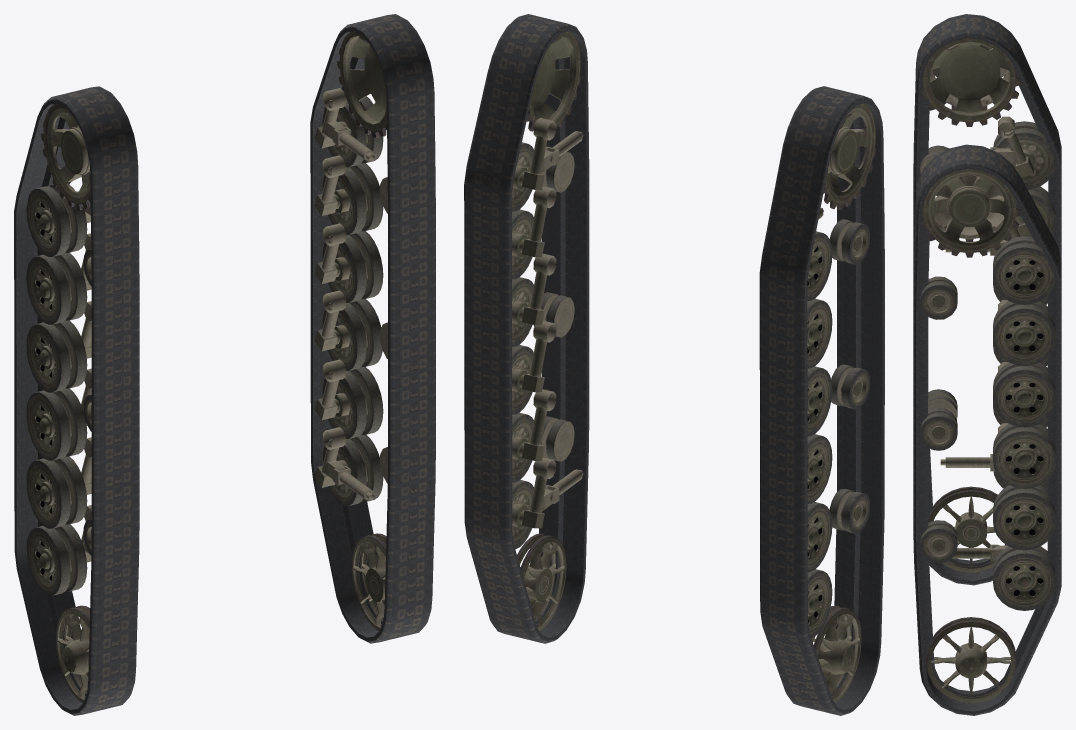
File: Chassis.glb
3 renders of one model, left to right at view 1: azimuth 30°, elevation 25°; view 2: azimuth 150°, elevation 25°; view 3: azimuth 270°, elevation 25°, orthographic. The views are drawn at different scales.
Parts seen in each view (by area): view 1: set_1_group_0, set_0_group_0, set_2_group_0, set_3_group_0; view 2: set_1_group_0, set_0_group_0, set_3_group_0, set_2_group_0; view 3: set_3_group_0, set_0_group_0, set_2_group_0, set_1_group_0.
Part boxes in pixels (bbox=[...]): set_1_group_0: bbox=[14, 86, 139, 715]; set_0_group_0: bbox=[310, 14, 435, 643]; set_2_group_0: bbox=[26, 103, 91, 702]; set_3_group_0: bbox=[314, 31, 387, 630]; set_1_group_0: bbox=[759, 86, 884, 715]; set_0_group_0: bbox=[464, 14, 589, 643]; set_3_group_0: bbox=[511, 31, 583, 630]; set_2_group_0: bbox=[807, 103, 875, 702]; set_3_group_0: bbox=[920, 169, 1056, 703]; set_0_group_0: bbox=[913, 144, 1061, 715]; set_2_group_0: bbox=[920, 38, 1056, 573]; set_1_group_0: bbox=[913, 14, 1061, 585].
Size of the model in its own units: 2.92 by 5.01 by 1.21.
4 materials, 4 textured.
